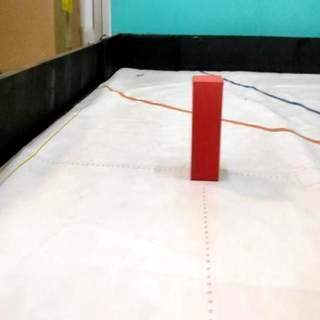redbox: (191, 76, 224, 182)
